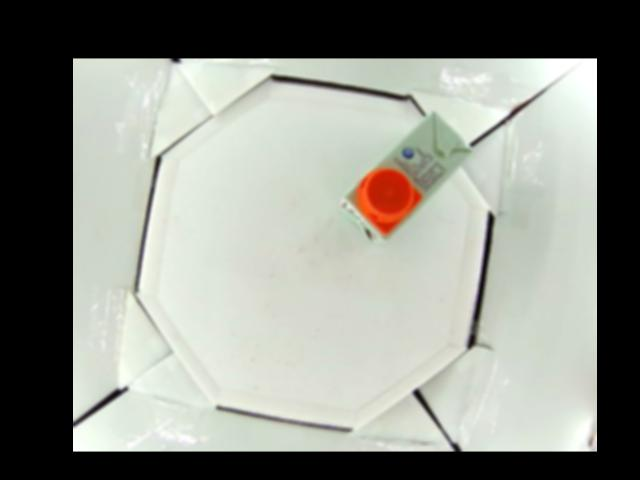Bottle: (339, 109, 470, 245)
